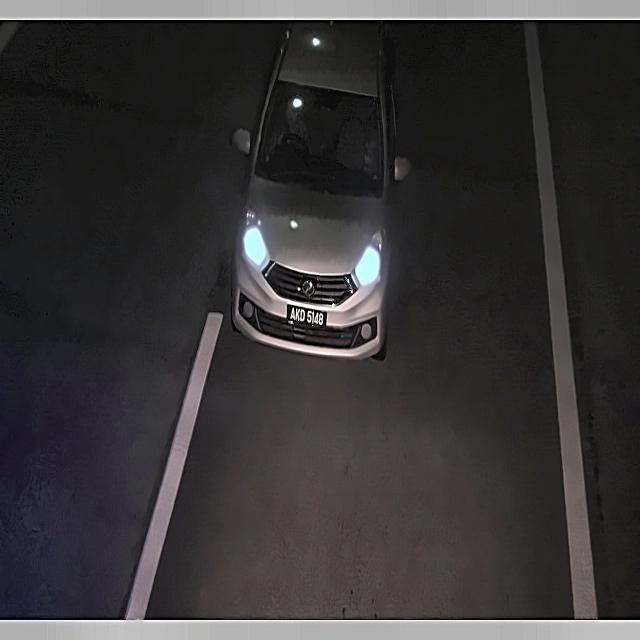car: (284, 300, 329, 336)
